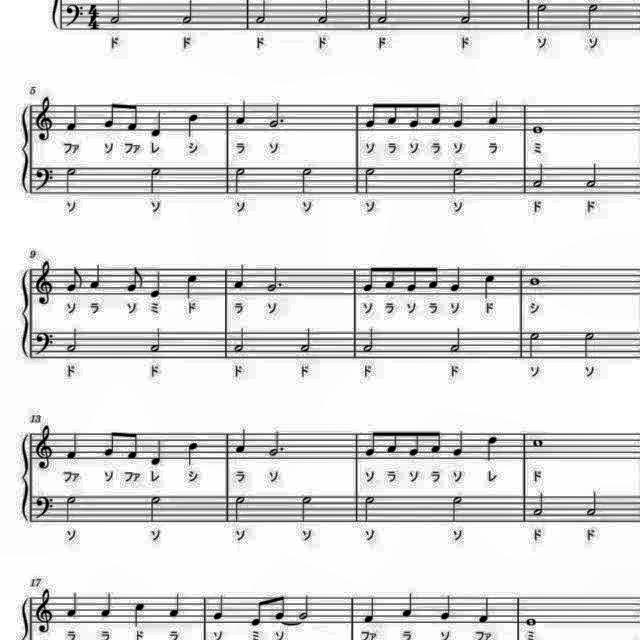Bass-clef: (31, 329, 55, 359), (33, 492, 56, 522), (62, 0, 86, 28), (32, 163, 54, 193)
Eighth-note: (124, 264, 148, 294), (247, 595, 266, 629), (64, 264, 85, 294), (99, 100, 117, 134), (272, 590, 290, 622), (359, 262, 377, 294), (126, 100, 142, 134), (126, 427, 142, 461), (408, 98, 424, 130), (408, 428, 424, 460), (100, 427, 116, 459), (362, 96, 378, 128), (362, 426, 378, 458), (406, 263, 422, 295), (384, 427, 400, 457), (383, 261, 399, 291), (426, 262, 442, 292), (428, 428, 444, 457), (428, 98, 444, 126), (386, 97, 400, 127)
Full-note: (522, 616, 540, 630), (527, 274, 543, 288), (530, 437, 546, 451), (529, 123, 545, 137)
Half-dot: (268, 98, 288, 130), (266, 264, 286, 296), (268, 431, 288, 462)
Half-note: (146, 168, 166, 200), (146, 492, 166, 524), (524, 328, 544, 360), (584, 490, 604, 520), (146, 327, 166, 357), (233, 494, 251, 526), (449, 494, 467, 526), (233, 164, 251, 196), (449, 164, 467, 196), (360, 494, 378, 526), (360, 165, 378, 197), (532, 0, 550, 32), (581, 330, 599, 362), (64, 325, 82, 355), (448, 326, 466, 356), (530, 491, 548, 521), (296, 494, 314, 524), (297, 591, 315, 621), (585, 160, 603, 190), (533, 163, 551, 193), (297, 325, 315, 355), (64, 162, 80, 194), (298, 163, 314, 195), (64, 492, 80, 524), (586, 2, 602, 34), (233, 326, 251, 354), (360, 327, 378, 355), (375, 0, 393, 26), (179, 0, 197, 26), (314, 0, 332, 24), (458, 0, 476, 24), (108, 0, 124, 26), (251, 0, 268, 24)
Quarter-note: (146, 269, 166, 301), (477, 594, 495, 628), (359, 593, 377, 625), (209, 590, 227, 622), (166, 588, 184, 620), (64, 102, 82, 134), (400, 588, 418, 620), (63, 430, 81, 462), (438, 592, 456, 624), (148, 110, 166, 142), (147, 437, 165, 469), (233, 96, 250, 128), (98, 588, 115, 620), (89, 262, 107, 292), (181, 271, 199, 301), (483, 434, 501, 464), (64, 590, 82, 620), (451, 98, 467, 130), (486, 98, 502, 130), (233, 427, 250, 457), (183, 112, 201, 140), (448, 265, 464, 295), (232, 261, 248, 291), (450, 430, 466, 460), (482, 271, 498, 301), (132, 600, 148, 630), (184, 440, 200, 468)
Treble-clef: (31, 258, 55, 308), (33, 95, 56, 145), (31, 422, 54, 470), (32, 584, 54, 634)
